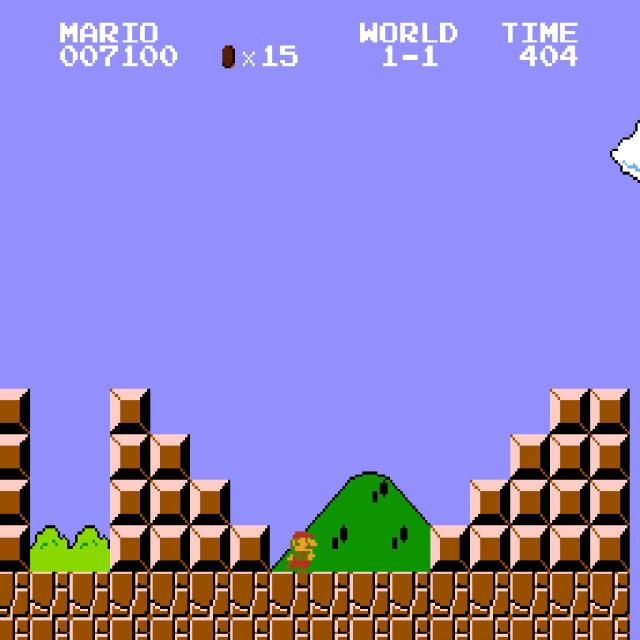hard_block: (110, 434, 150, 480), (110, 480, 150, 526), (150, 434, 190, 480), (150, 480, 190, 526), (190, 480, 230, 526), (470, 480, 510, 526), (510, 434, 550, 480), (510, 480, 550, 526), (550, 434, 590, 480), (550, 480, 590, 526), (590, 434, 630, 480), (590, 480, 630, 526), (110, 389, 150, 434), (110, 526, 150, 571), (150, 526, 190, 571), (190, 526, 230, 571), (230, 526, 270, 571), (430, 526, 470, 571), (470, 526, 510, 571), (510, 526, 550, 571), (550, 389, 590, 434), (550, 526, 590, 571), (590, 389, 630, 434), (590, 526, 630, 571), (0, 434, 30, 480), (0, 480, 30, 526), (0, 389, 30, 434), (0, 526, 30, 571)
little_mario: (277, 526, 320, 574)
undestructible_block: (30, 572, 70, 617), (70, 572, 110, 617), (110, 572, 150, 617), (150, 572, 190, 617), (190, 572, 230, 617), (230, 572, 270, 617), (270, 572, 310, 617), (310, 572, 350, 617), (350, 572, 390, 617), (390, 572, 430, 617), (430, 572, 470, 617), (470, 572, 510, 617), (510, 572, 550, 617), (550, 572, 590, 617), (590, 572, 630, 617), (0, 572, 30, 617), (30, 617, 70, 640), (70, 617, 110, 640), (110, 617, 150, 640), (150, 617, 190, 640), (190, 617, 230, 640), (230, 617, 270, 640), (270, 617, 310, 640), (310, 617, 350, 640), (350, 617, 390, 640), (390, 617, 430, 640), (430, 617, 470, 640), (470, 617, 510, 640), (510, 617, 550, 640), (550, 617, 590, 640), (590, 617, 630, 640), (0, 617, 30, 640)
